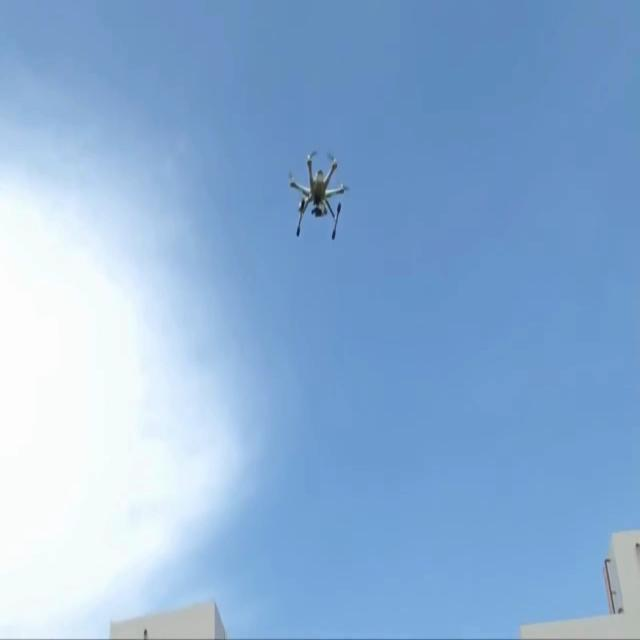drone: (288, 150, 350, 240)
